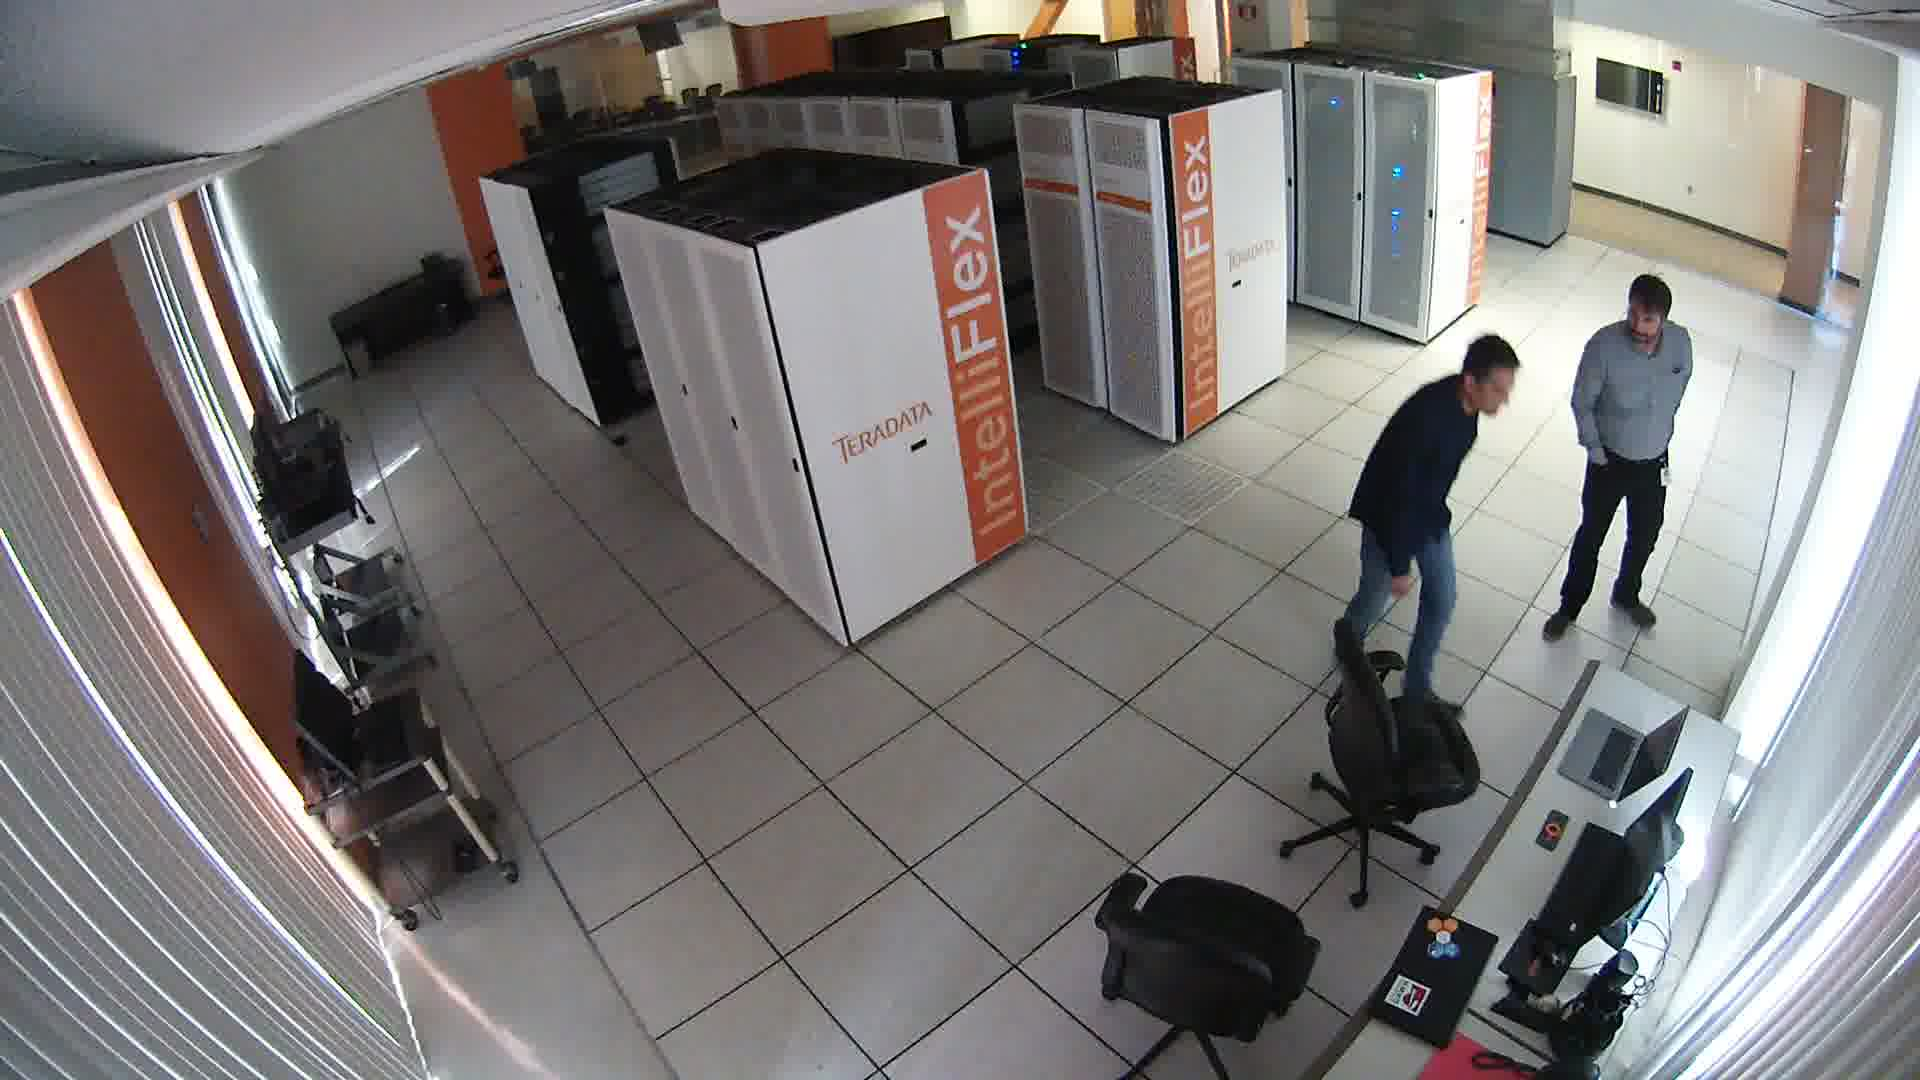person: (1321, 321, 1539, 715), (1563, 262, 1730, 652)
